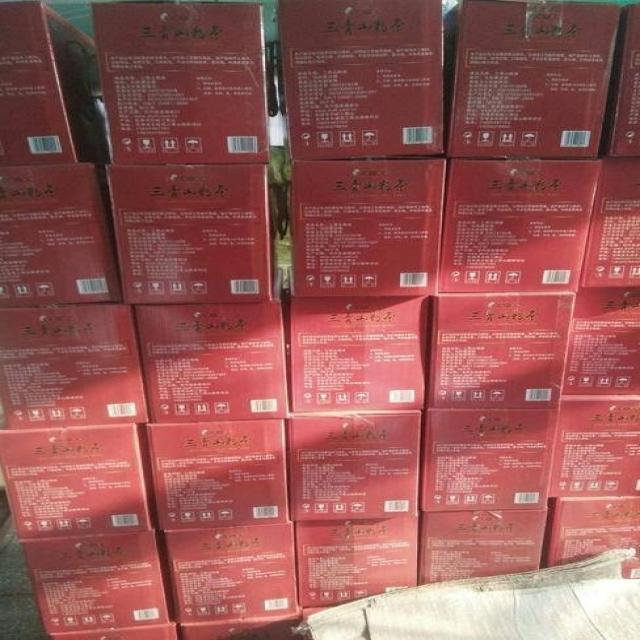box: (93, 1, 271, 164), (443, 0, 622, 158), (278, 0, 444, 160), (106, 165, 271, 304), (438, 158, 604, 292), (292, 156, 446, 296), (288, 266, 429, 412), (134, 299, 290, 423), (0, 303, 150, 430), (0, 0, 112, 167), (0, 423, 158, 538), (1, 163, 124, 308), (426, 292, 576, 408), (19, 527, 171, 634), (145, 419, 289, 529), (289, 410, 421, 521), (419, 408, 559, 511), (163, 520, 298, 624), (295, 518, 418, 608), (418, 508, 547, 586), (548, 395, 639, 496), (563, 287, 639, 395), (579, 157, 639, 287), (541, 496, 639, 569), (605, 3, 639, 157), (180, 613, 302, 639), (48, 622, 177, 639)
